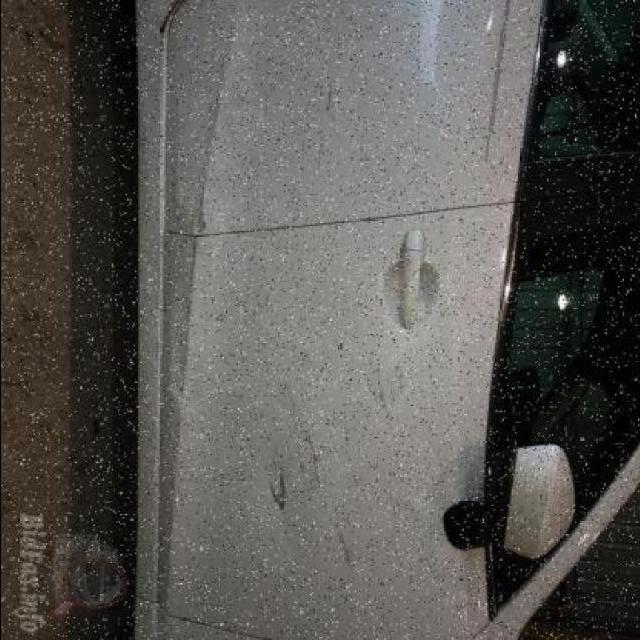doorouter-dent: (161, 219, 489, 615), (160, 3, 520, 211)
